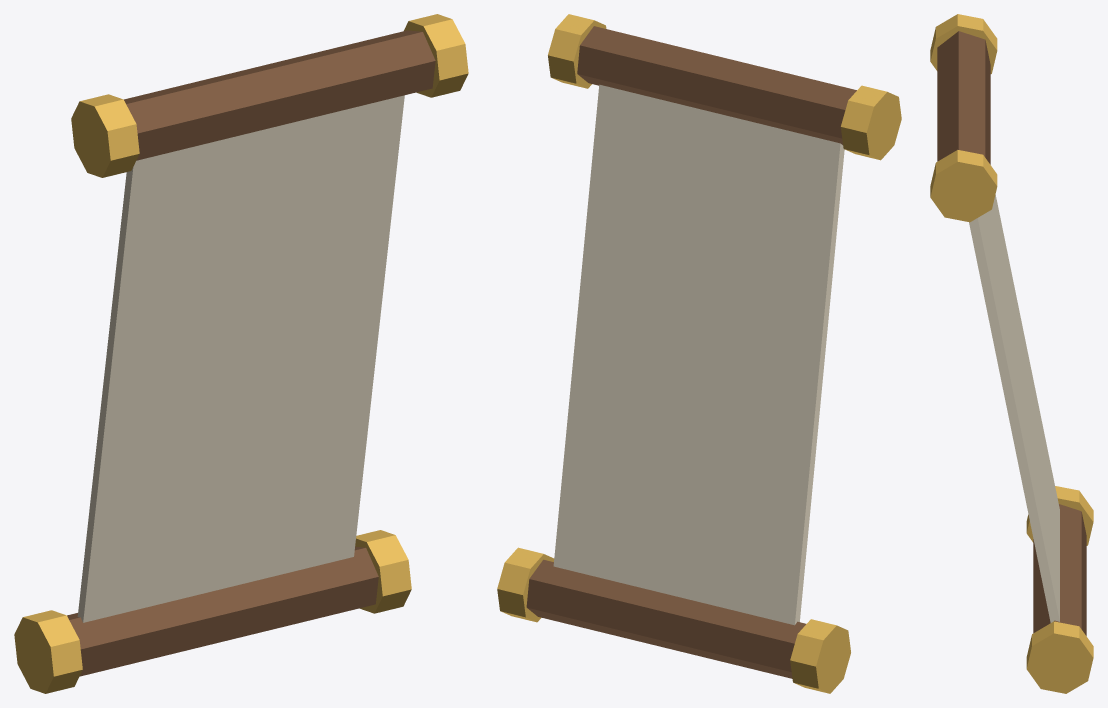
File: Pergamino.fbx
The picture shows the model from 3 angles, left to right: view 1: azimuth 30°, elevation 25°; view 2: azimuth 150°, elevation 25°; view 3: azimuth 270°, elevation 25°; orthographic projection. The views are drawn at different scales.
Visible parts, largest first — view 1: Pergamino_Skin; view 2: Pergamino_Skin; view 3: Pergamino_Skin.
Part boxes in pixels (x1,y1,x2,y2): Pergamino_Skin: (14, 14, 468, 693); Pergamino_Skin: (497, 14, 901, 693); Pergamino_Skin: (930, 14, 1093, 693).
Bounding box in the file's own units: 185 × 311 × 86.28.
